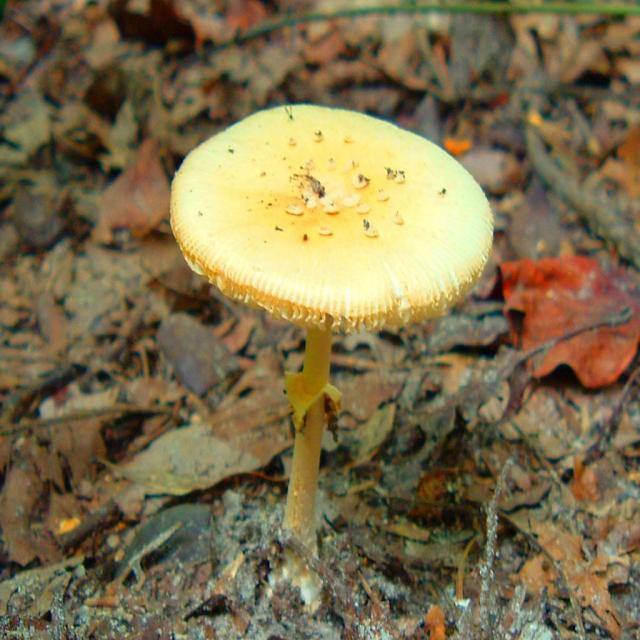Mushroom: (170, 104, 493, 546)
